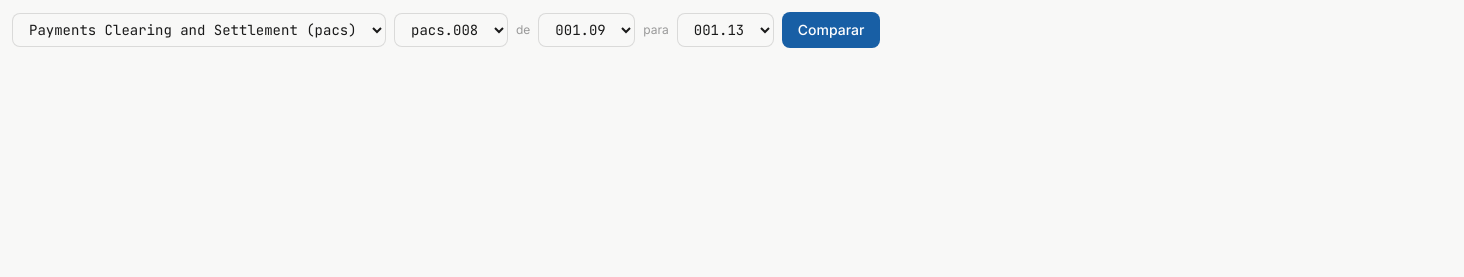
VersionComparatorView › clicking Compare renders Added + Changed sections from the mocked response
Click the button with test id "comparator-run".
click(831, 30)  # box [782, 12, 880, 48]
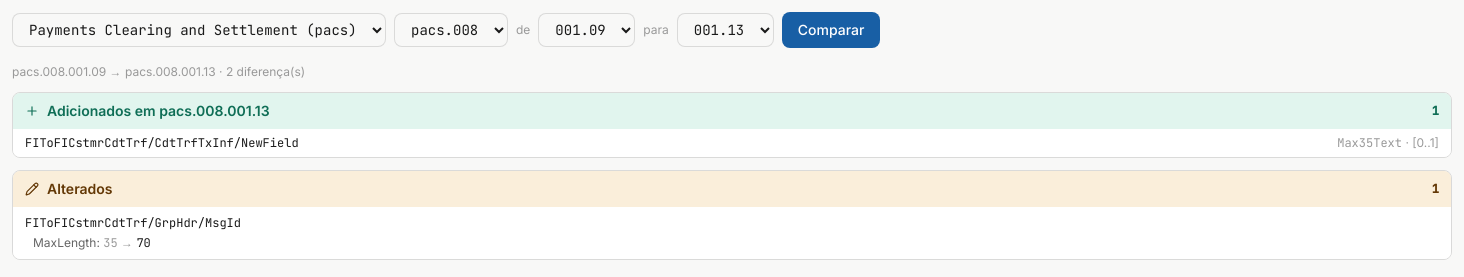
Check: the element with test id "comparator-result" is shown
Check: the element with test id "comparator-section-added" is shown, box [12, 92, 1452, 158]
Check: the element with test id "comparator-section-changed" is shown, box [12, 170, 1452, 260]
